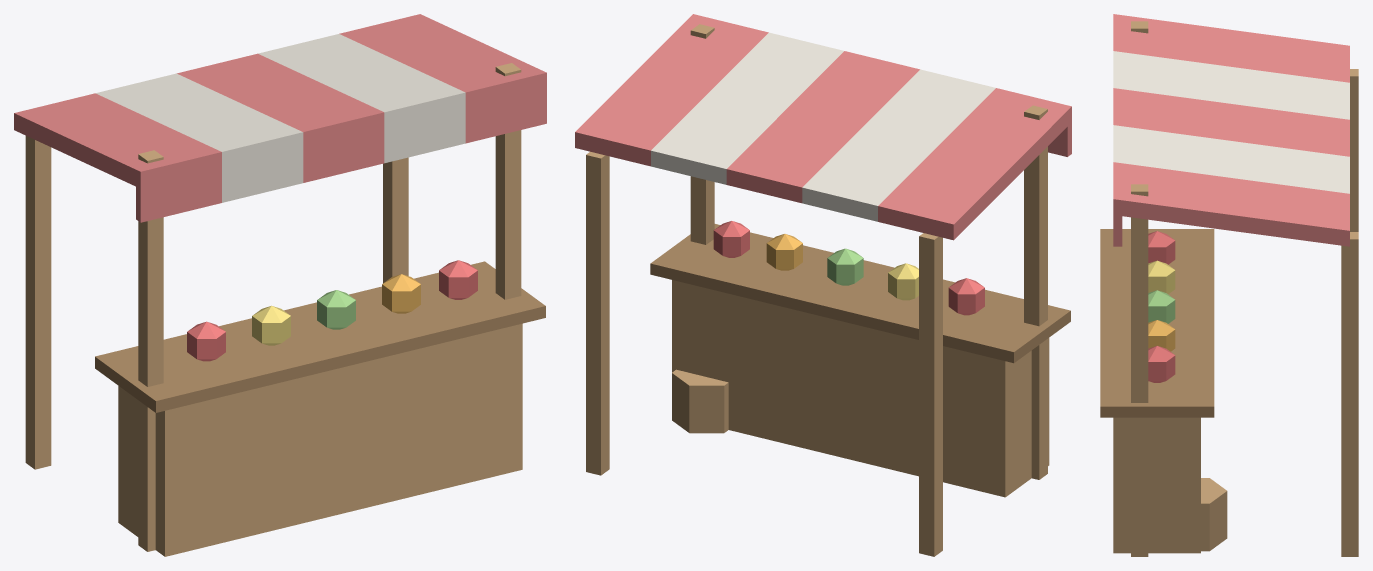
The model's file is market_stall.glb.
The picture shows the model from 3 angles, left to right: view 1: azimuth 30°, elevation 25°; view 2: azimuth 150°, elevation 25°; view 3: azimuth 270°, elevation 25°; orthographic projection. The views are drawn at different scales.
Visible parts, largest first — view 1: Player; view 2: Player; view 3: Player.
Boxes of the visible parts, x1,y1,x2,y2 form: Player: (14,14,546,556); Player: (575,14,1071,556); Player: (1100,14,1358,556).
Size of the model in its own units: 2.5 by 2.3 by 1.47.
